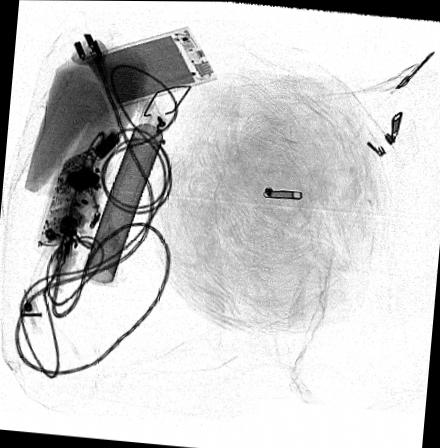Powerbank: (85, 26, 219, 113)
